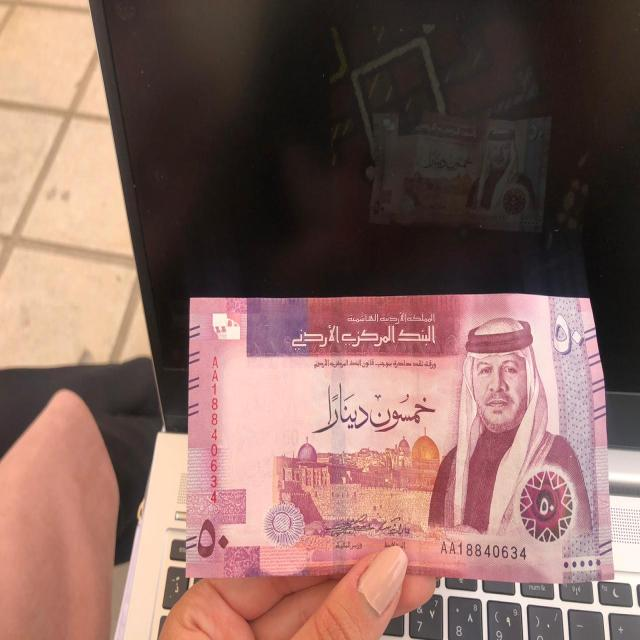50-dinar: (184, 293, 615, 583)
